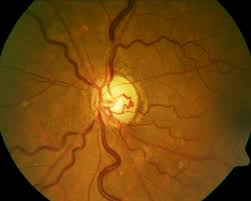Glaucoma section-1: (102, 87, 127, 115)
Glaucoma section-2: (90, 74, 139, 128)
